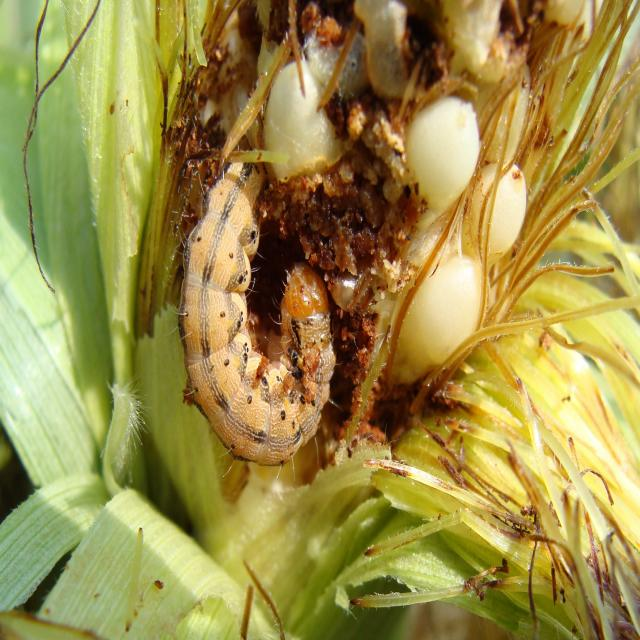cornborer-Larva-: (175, 136, 340, 472)
